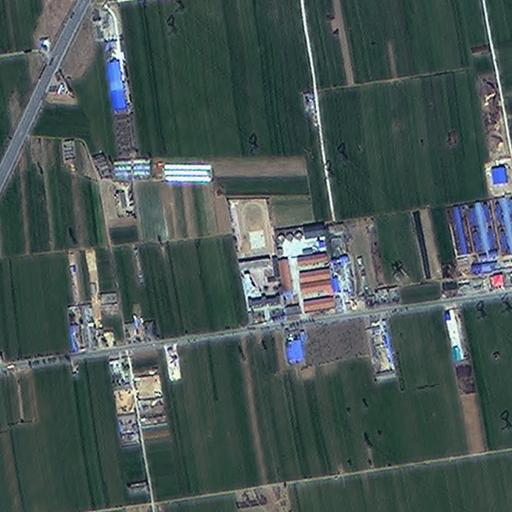school: (229, 197, 282, 325)
